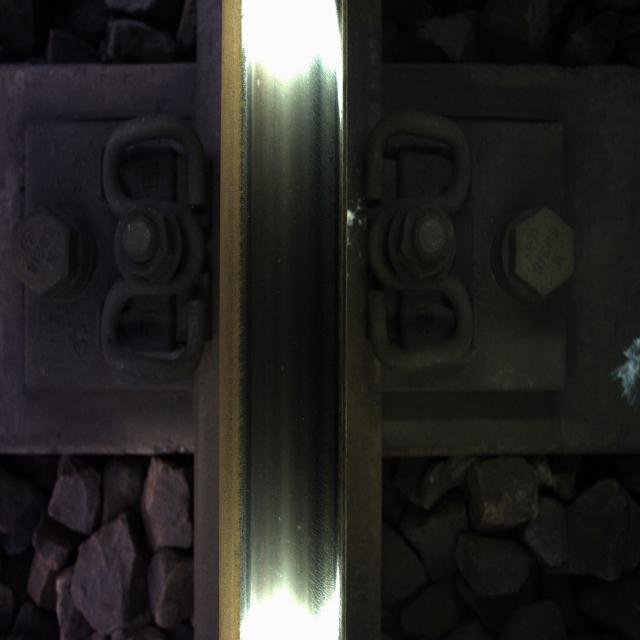normal: (250, 63, 331, 638)
